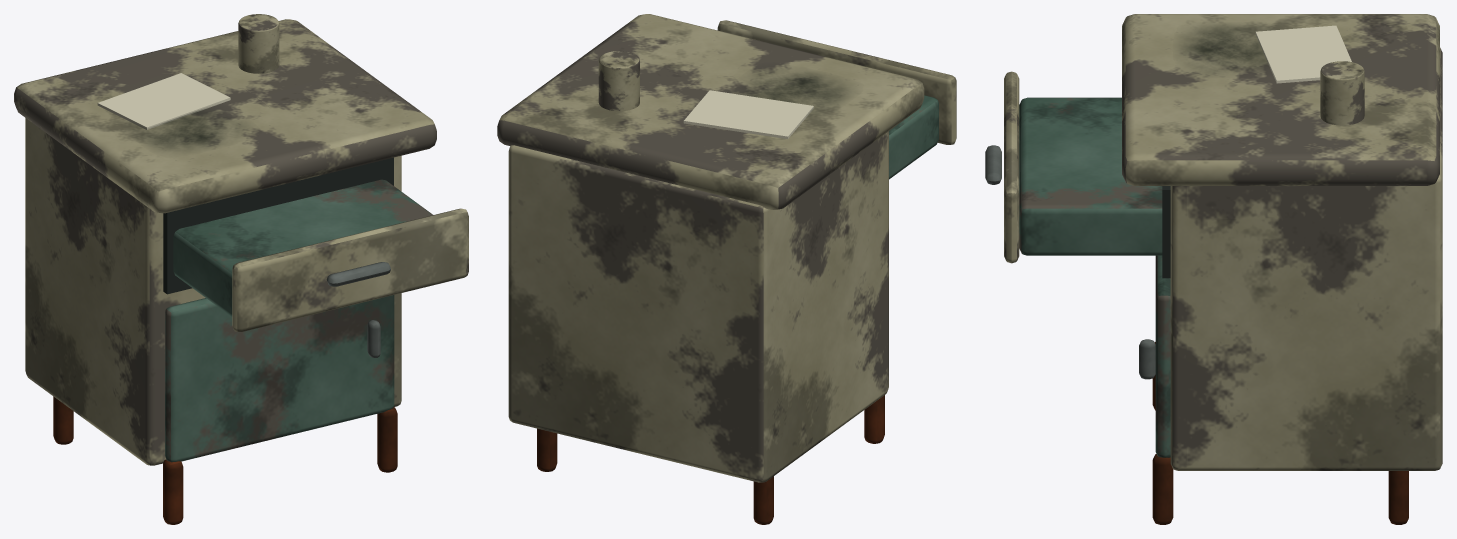
Rendered from bedside_cabinet.glb.
3 views of the same model, side by side, from view 1: azimuth 30°, elevation 25°; view 2: azimuth 150°, elevation 25°; view 3: azimuth 270°, elevation 25° (orthographic). The views are drawn at different scales.
Visible parts, largest first — view 1: Worn bedside laminate top, Cabinet carcass, Lower cabinet door, Drawer face, Half open bedside drawer, Dark drawer cavity, Patient card, Bedside ring stain, Empty water cup, Cabinet feet, Cabinet feet.002, Drawer pull (+1 smaller); view 2: Cabinet carcass, Worn bedside laminate top, Drawer face, Patient card, Bedside ring stain, Half open bedside drawer, Empty water cup, Cabinet feet.001, Cabinet feet, Cabinet feet.003; view 3: Cabinet carcass, Worn bedside laminate top, Half open bedside drawer, Patient card, Bedside ring stain, Lower cabinet door, Drawer face, Empty water cup, Cabinet feet.002, Cabinet feet.003, Dark drawer cavity, Cabinet latch (+1 smaller).
Part boxes in pixels (x1,y1,x2,y2): Worn bedside laminate top: (14, 19, 436, 213); Cabinet carcass: (25, 118, 401, 465); Lower cabinet door: (165, 295, 394, 462); Drawer face: (232, 208, 468, 331); Half open bedside drawer: (173, 179, 432, 316); Dark drawer cavity: (163, 157, 393, 294); Patient card: (97, 73, 230, 129); Bedside ring stain: (131, 108, 248, 151); Empty water cup: (238, 14, 279, 73); Cabinet feet: (163, 459, 183, 524); Cabinet feet.002: (377, 407, 397, 472); Drawer pull: (326, 262, 390, 286); Cabinet carcass: (508, 131, 888, 482); Worn bedside laminate top: (497, 14, 924, 209); Drawer face: (717, 20, 956, 144); Patient card: (683, 90, 813, 138); Bedside ring stain: (738, 69, 851, 114); Half open bedside drawer: (889, 95, 938, 179); Empty water cup: (598, 51, 639, 111); Cabinet feet.001: (753, 476, 773, 524); Cabinet feet: (864, 395, 884, 443); Cabinet feet.003: (537, 428, 557, 471); Cabinet carcass: (1170, 47, 1442, 470); Worn bedside laminate top: (1122, 14, 1439, 185); Half open bedside drawer: (1019, 97, 1162, 255); Patient card: (1255, 25, 1351, 83); Bedside ring stain: (1178, 24, 1272, 74); Lower cabinet door: (1155, 255, 1170, 457); Drawer face: (1004, 71, 1019, 263); Empty water cup: (1320, 61, 1364, 125); Cabinet feet.002: (1152, 454, 1173, 524); Cabinet feet.003: (1388, 471, 1408, 524); Dark drawer cavity: (1162, 186, 1170, 278); Cabinet latch: (1139, 339, 1155, 379).
Size of the model in its own units: 0.69 by 0.925 by 0.891.
7 materials, 5 textured.
